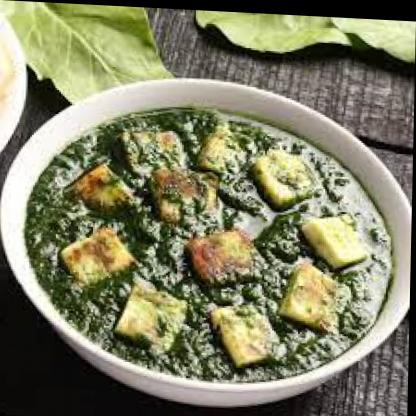palak_paneer: (23, 98, 396, 387)
